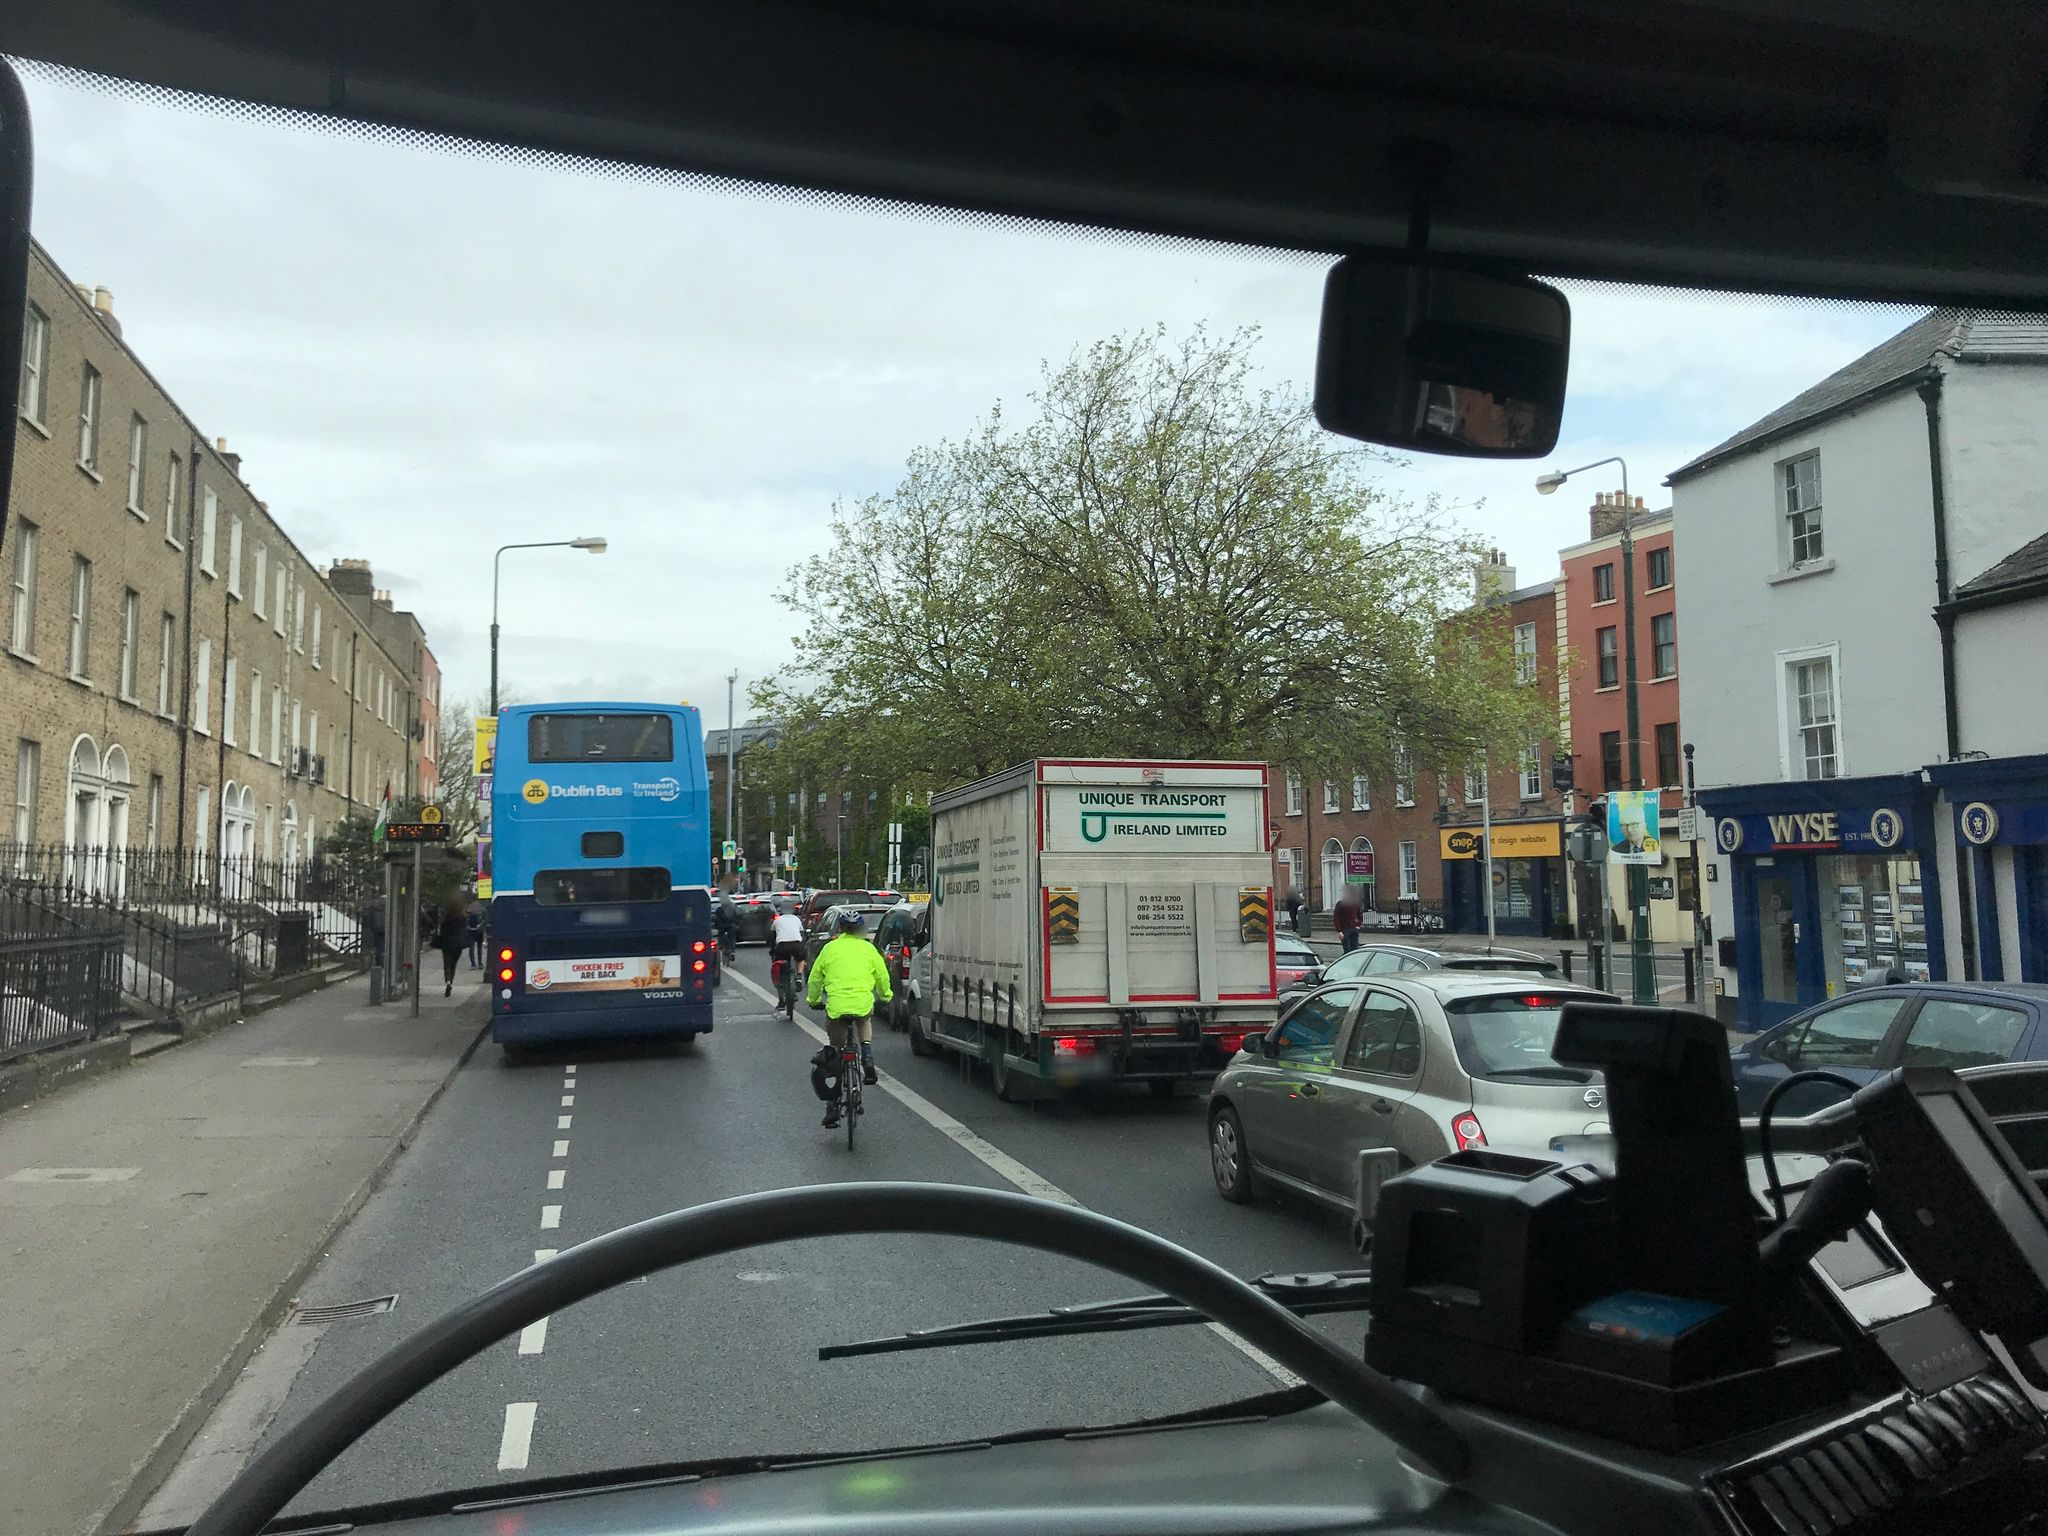property sign: (1334, 842, 1384, 892)
